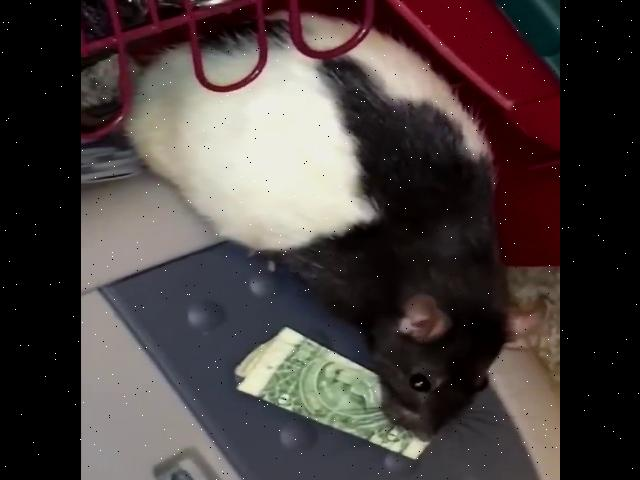Tikus: (145, 16, 537, 440)
